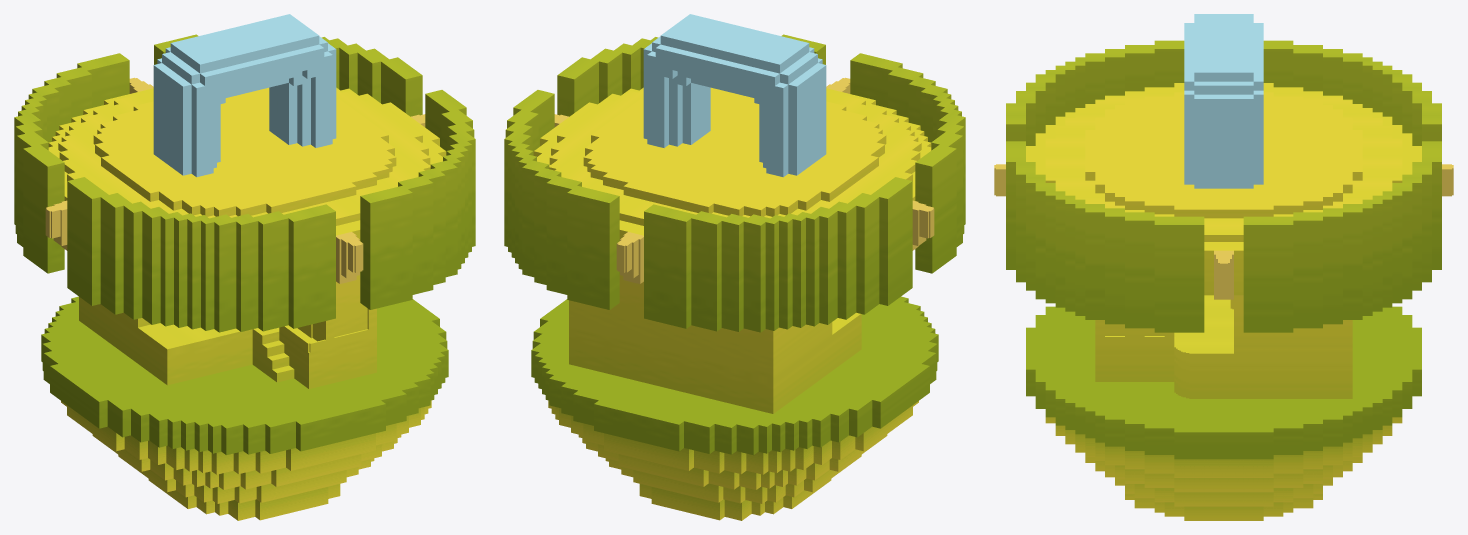
The model's file is tower.glb.
3 views of the same model, side by side, from view 1: azimuth 30°, elevation 25°; view 2: azimuth 150°, elevation 25°; view 3: azimuth 270°, elevation 25° (orthographic).
Parts seen in each view (by area): view 1: Cubo.003, Cubo.001; view 2: Cubo.003, Cubo.001; view 3: Cubo.003, Cubo.001.
Part boxes in pixels (box(x1,y1,x2,y2)): Cubo.003: box(14, 14, 475, 455); Cubo.001: box(61, 400, 431, 520); Cubo.003: box(504, 14, 965, 455); Cubo.001: box(548, 400, 918, 520); Cubo.003: box(994, 14, 1453, 459); Cubo.001: box(1045, 417, 1402, 520).
Size of the model in its own units: 92.67 by 98 by 92.67.
1 material, 1 textured.
